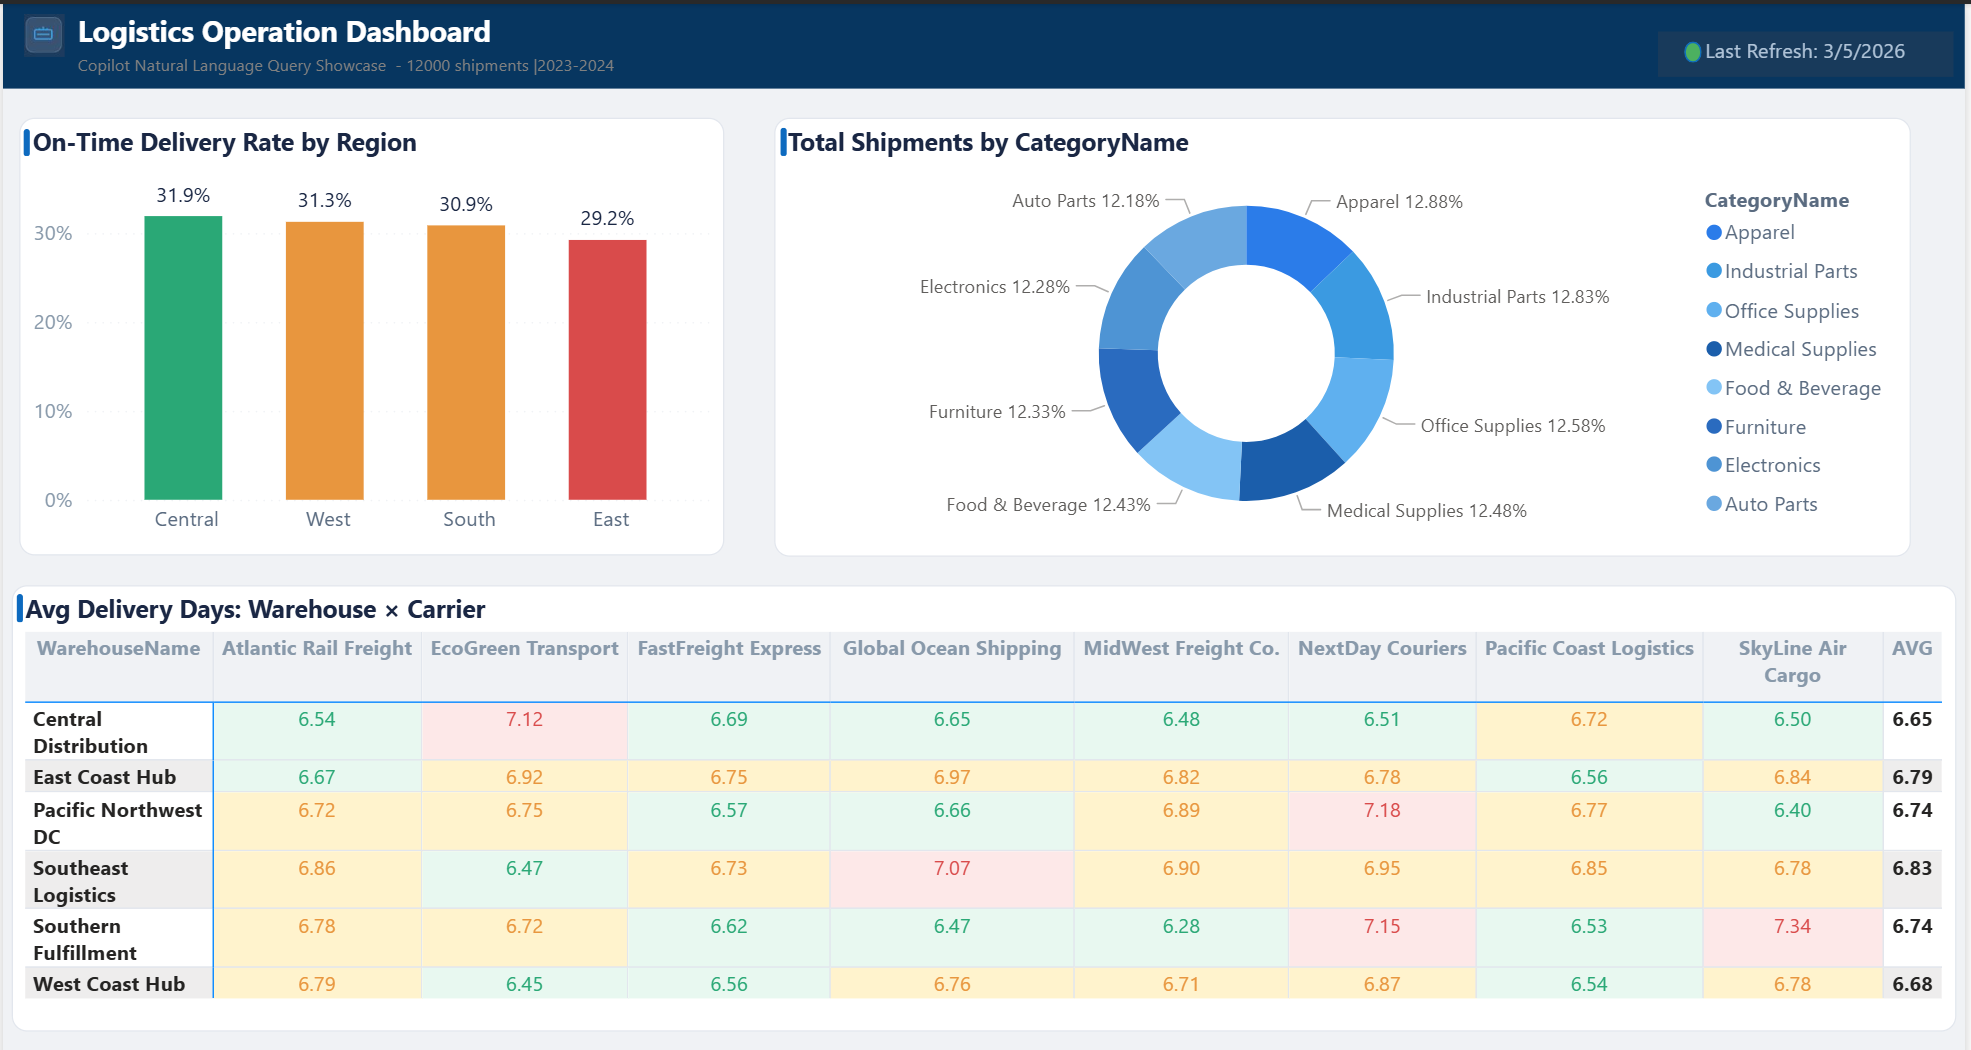

The page's visual inventory and layout, read from the dashboard file:
{"tool":"powerbi","page":{"name":"Regional Analysis","canvas":[1280,720],"ordinal":1},"visuals":[{"type":"textbox","title":"Logistics Operation Dashboard","box":[0,0,1280,55],"z":0,"group":"g1"},{"type":"shape","box":[1097,24.5,12.2,13],"z":0},{"type":"group","id":"g1","title":"Group 3","box":[0,0,1279.7,54.6],"z":1000},{"type":"shape","box":[1097,24.5,11.4,13.9],"z":2000},{"type":"clusteredColumnChart","fields":{"Category":["DimDestination.Region"],"Y":["FactShipments.On-Time Delivery Rate"]},"box":[10.6,74.2,460,285.5],"z":3000,"group":"g3"},{"type":"pivotTable","title":"Avg Delivery Days: Warehouse × Carrier","fields":{"Rows":["DimWarehouse.WarehouseName"],"Columns":["DimCarrier.CarrierName"],"Values":["FactShipments.Average Delivery Days"]},"box":[5.7,379.2,1269.1,291.2],"z":4000,"group":"g4"},{"type":"donutChart","fields":{"Category":["DimProductCategory.CategoryName"],"Y":["FactShipments.Total Shipments"]},"box":[503.2,74.2,741.4,286.3],"z":5000,"group":"g2"},{"type":"shape","box":[428.2,80.7,162.3,18.8],"z":8000,"group":"g2"},{"type":"group","id":"g2","title":"Group 1","box":[428.2,74.2,816.4,286.3],"z":8001},{"type":"shape","box":[3.3,384.9,15.5,18.8],"z":8251,"group":"g4"},{"type":"shape","box":[0,81.5,31,17.9],"z":8501,"group":"g3"},{"type":"group","id":"g3","title":"Group 2","box":[0,74.2,470.6,285.5],"z":8502},{"type":"group","id":"g4","title":"Group 4","box":[3.3,379.2,1271.5,291.2],"z":8503},{"type":"image","box":[10.6,6.5,32.6,27.7],"z":13000,"group":"g1"},{"type":"card","fields":{"Values":["ReportRefreshDateTime.LastRefreshDate"]},"box":[1079.8,18,192.5,29.4],"z":13500,"group":"g1"}]}

Visuals, with their boxes on the page's 1280x720 design canvas (x1, y1, x2, y2). These are canvas units, not pixel positions in the 1971x1050 screenshot, which may show the page scaled, cropped or inside an application window:
"Logistics Operation Dashboard" textbox: 0 0 1280 55
shape: 1097 24 1109 38
"Group 3" group: 0 0 1280 55
shape: 1097 24 1108 38
clusteredColumnChart - DimDestination.Region x FactShipments.On-Time Delivery Rate: 11 74 471 360
"Avg Delivery Days: Warehouse × Carrier" pivotTable: 6 379 1275 670
donutChart - DimProductCategory.CategoryName x FactShipments.Total Shipments: 503 74 1245 360
shape: 428 81 590 100
"Group 1" group: 428 74 1245 360
shape: 3 385 19 404
shape: 0 82 31 99
"Group 2" group: 0 74 471 360
"Group 4" group: 3 379 1275 670
image: 11 6 43 34
card - ReportRefreshDateTime.LastRefreshDate: 1080 18 1272 47
